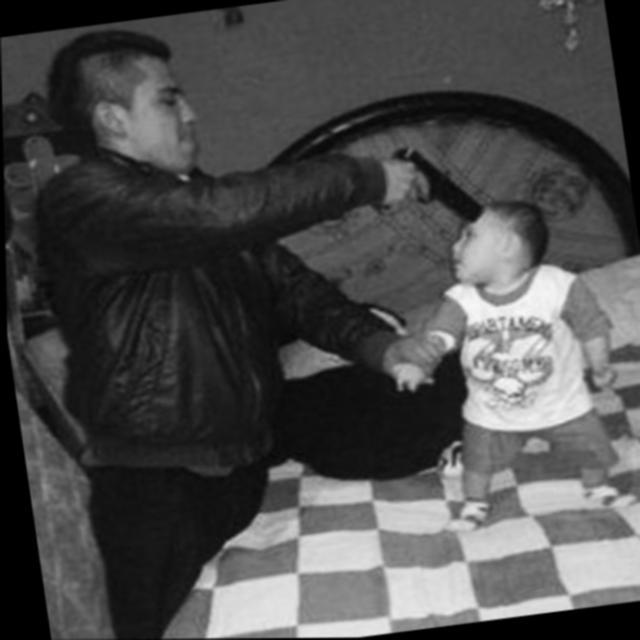weapon: (354, 128, 497, 246)
